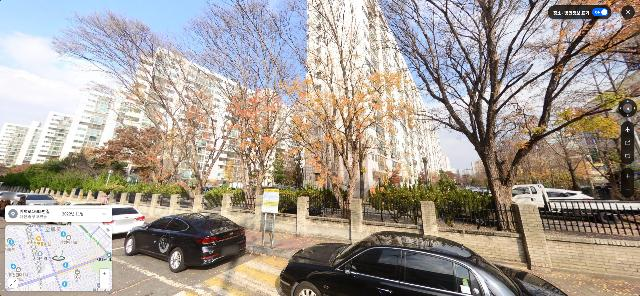other: (363, 0, 639, 231), (250, 0, 439, 219), (40, 1, 236, 207), (177, 0, 317, 210)
